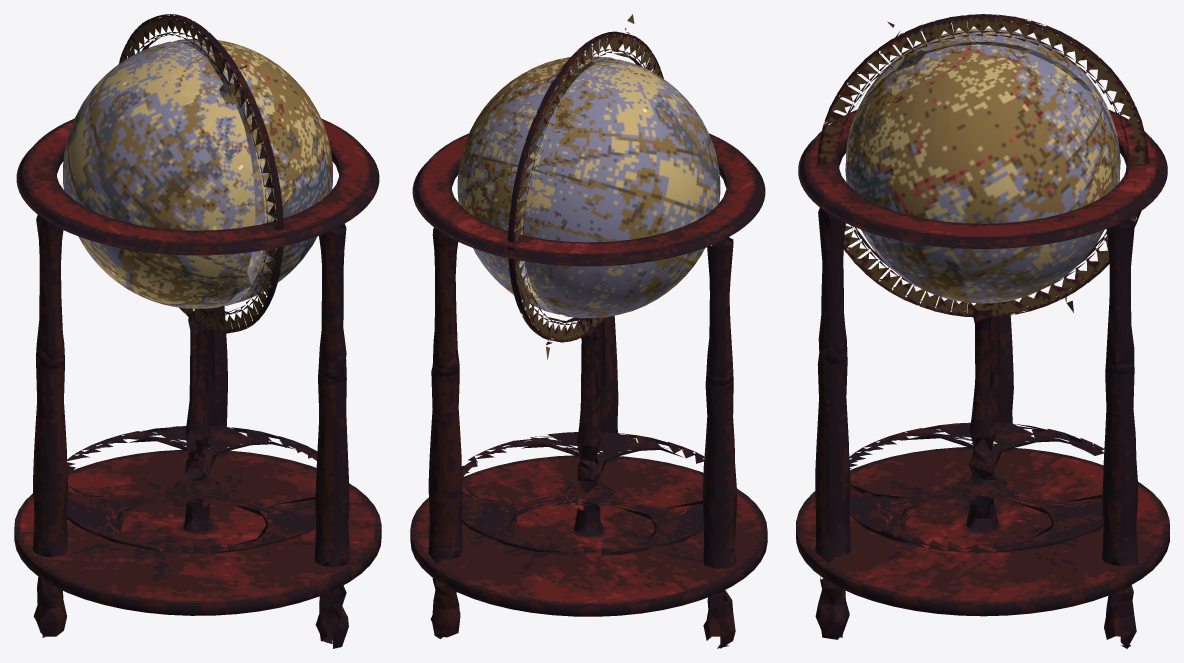
The model's file is Globe_stand.fbx.
3 renders of one model, left to right at view 1: azimuth 30°, elevation 25°; view 2: azimuth 150°, elevation 25°; view 3: azimuth 270°, elevation 25°, orthographic. The views are drawn at different scales.
Parts seen in each view (by area): view 1: Globe_stand; view 2: Globe_stand; view 3: Globe_stand.
Boxes of the visible parts, box(x1,y1,x2,y2) form: Globe_stand: box(14, 14, 381, 648); Globe_stand: box(410, 14, 767, 648); Globe_stand: box(796, 14, 1169, 648).
Bounding box in the file's own units: 79.36 × 138 × 79.23.
1 material, 1 textured.
